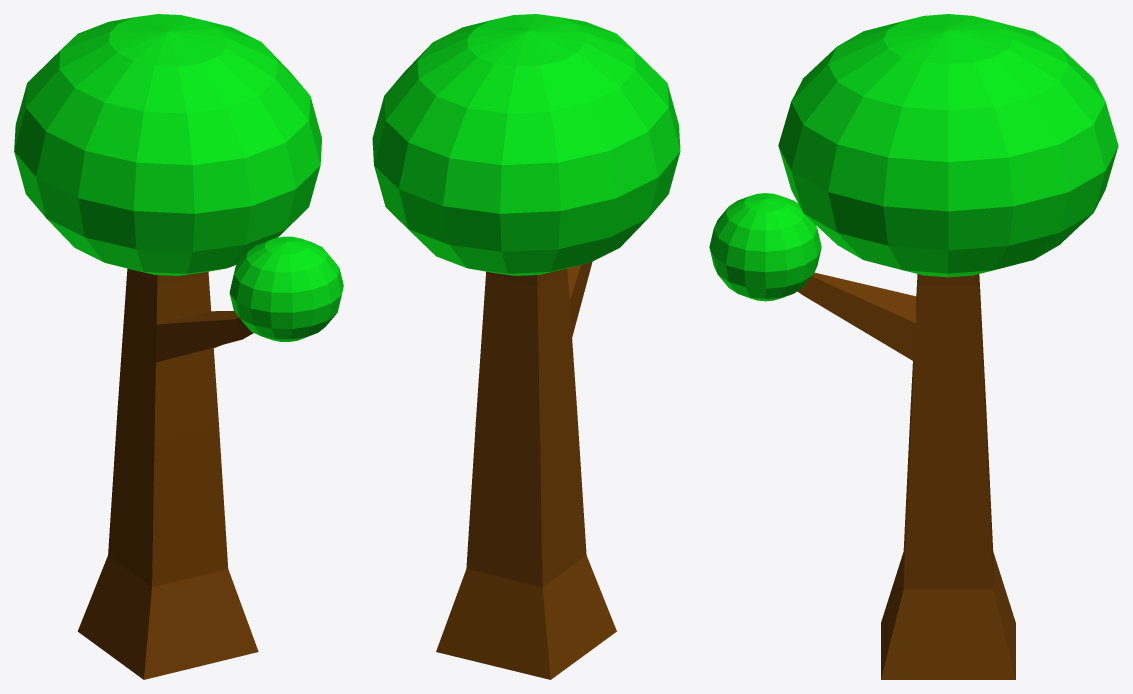
Rendered from tree2.fbx.
3 renders of one model, left to right at view 1: azimuth 30°, elevation 25°; view 2: azimuth 150°, elevation 25°; view 3: azimuth 270°, elevation 25°, orthographic.
Parts seen in each view (by area): view 1: Sphere, Cube, Sphere.001; view 2: Sphere, Cube; view 3: Sphere, Cube, Sphere.001.
Boxes of the visible parts, x1=… form: Sphere: x1=14, y1=14, x2=321, y2=275; Cube: x1=77, y1=268, x2=258, y2=679; Sphere.001: x1=229, y1=236, x2=343, y2=341; Sphere: x1=372, y1=14, x2=680, y2=275; Cube: x1=436, y1=261, x2=616, y2=679; Sphere: x1=778, y1=14, x2=1118, y2=277; Cube: x1=797, y1=272, x2=1015, y2=679; Sphere.001: x1=709, y1=193, x2=821, y2=301.
Bounding box in the file's own units: 694 × 1530 × 914.
